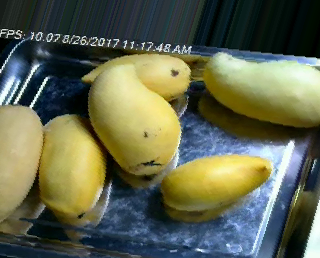Mango: (85, 63, 184, 177), (203, 51, 320, 127), (38, 114, 105, 218), (161, 149, 273, 208), (0, 103, 45, 221), (82, 52, 190, 100)
